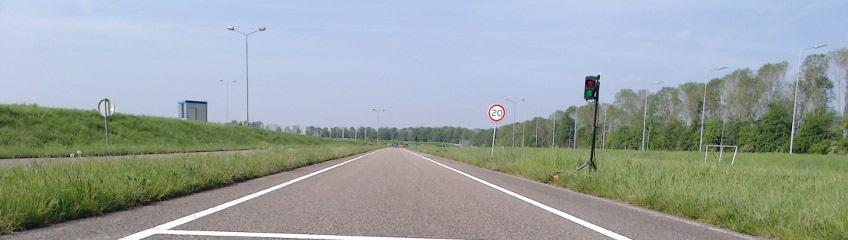Speed-limit-20km-h-: (487, 103, 506, 122)
TrafficLight-green: (584, 76, 596, 100)
